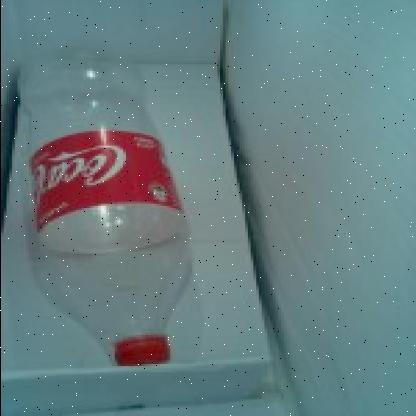Plastic Bottle: (20, 44, 190, 366)
